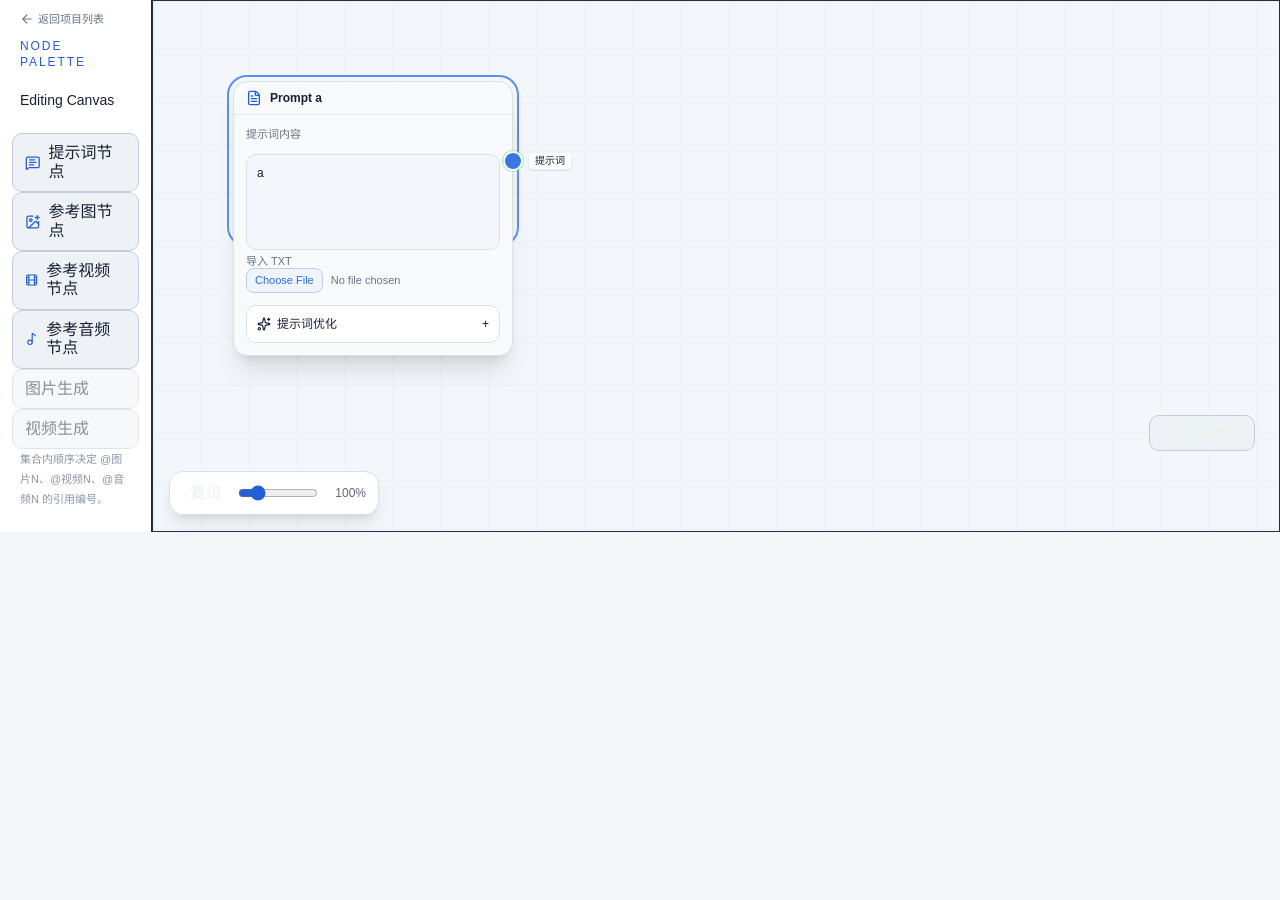
Test: project-scoped node selection and deletion › closes the context menu on Tab and on an outside pointer without trapping focus
Step 1. Press ContextMenu in the option with test id "draggable-node-a", box [233, 81, 513, 241]
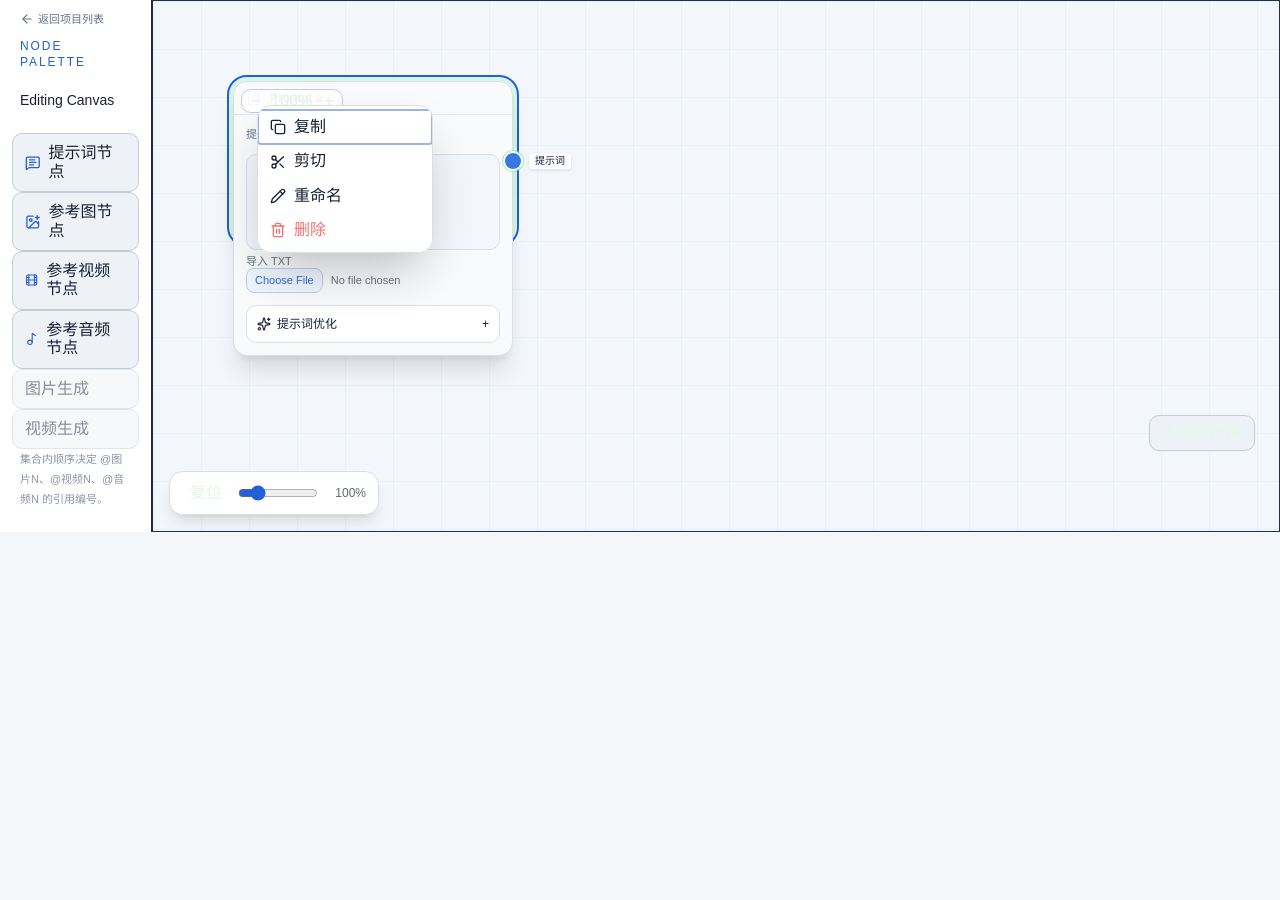
Step 2. Press Tab in the menu item "删除", box [258, 213, 432, 248]
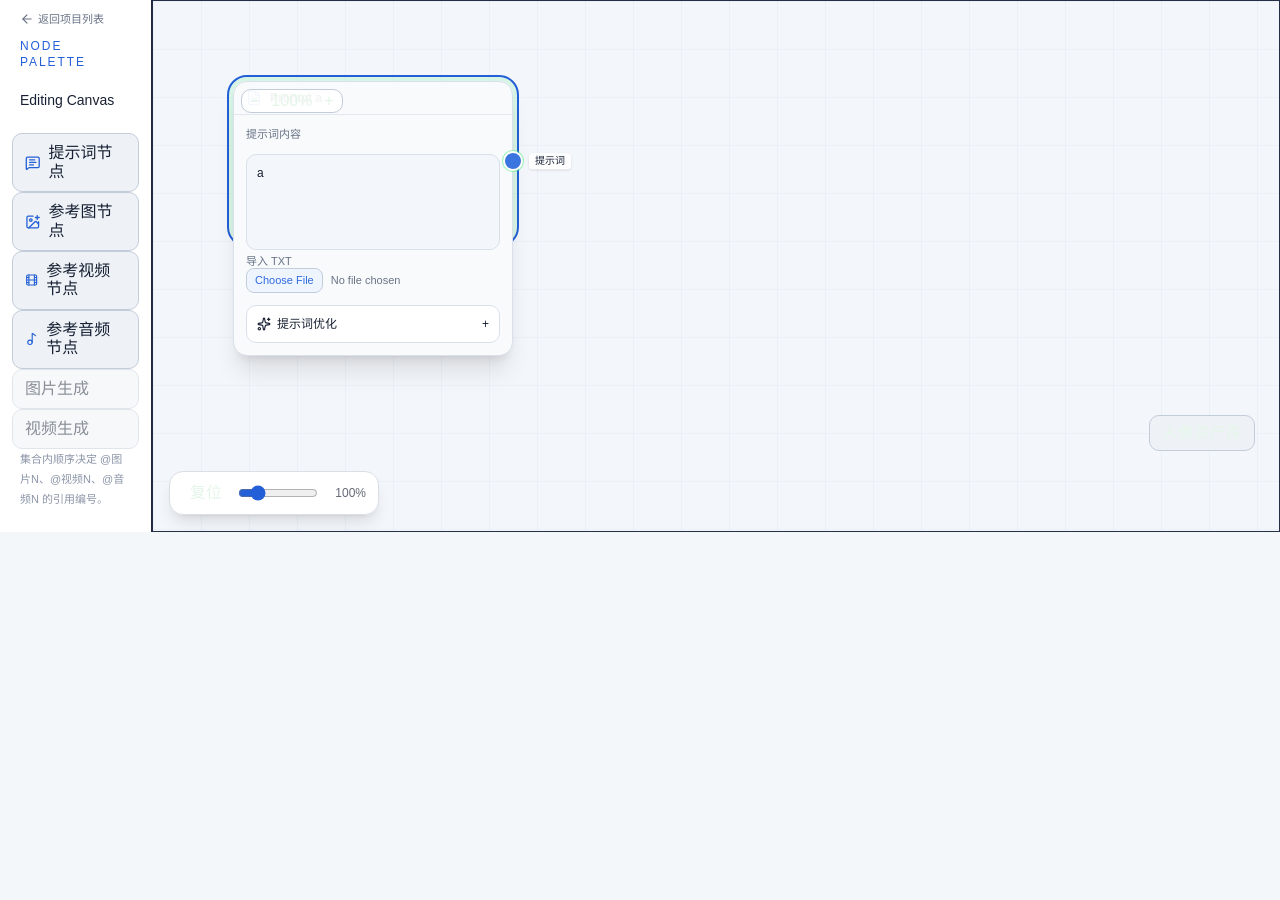
Expected: the menu is gone
Step 3. Press ContextMenu in the option with test id "draggable-node-a", box [233, 81, 513, 241]
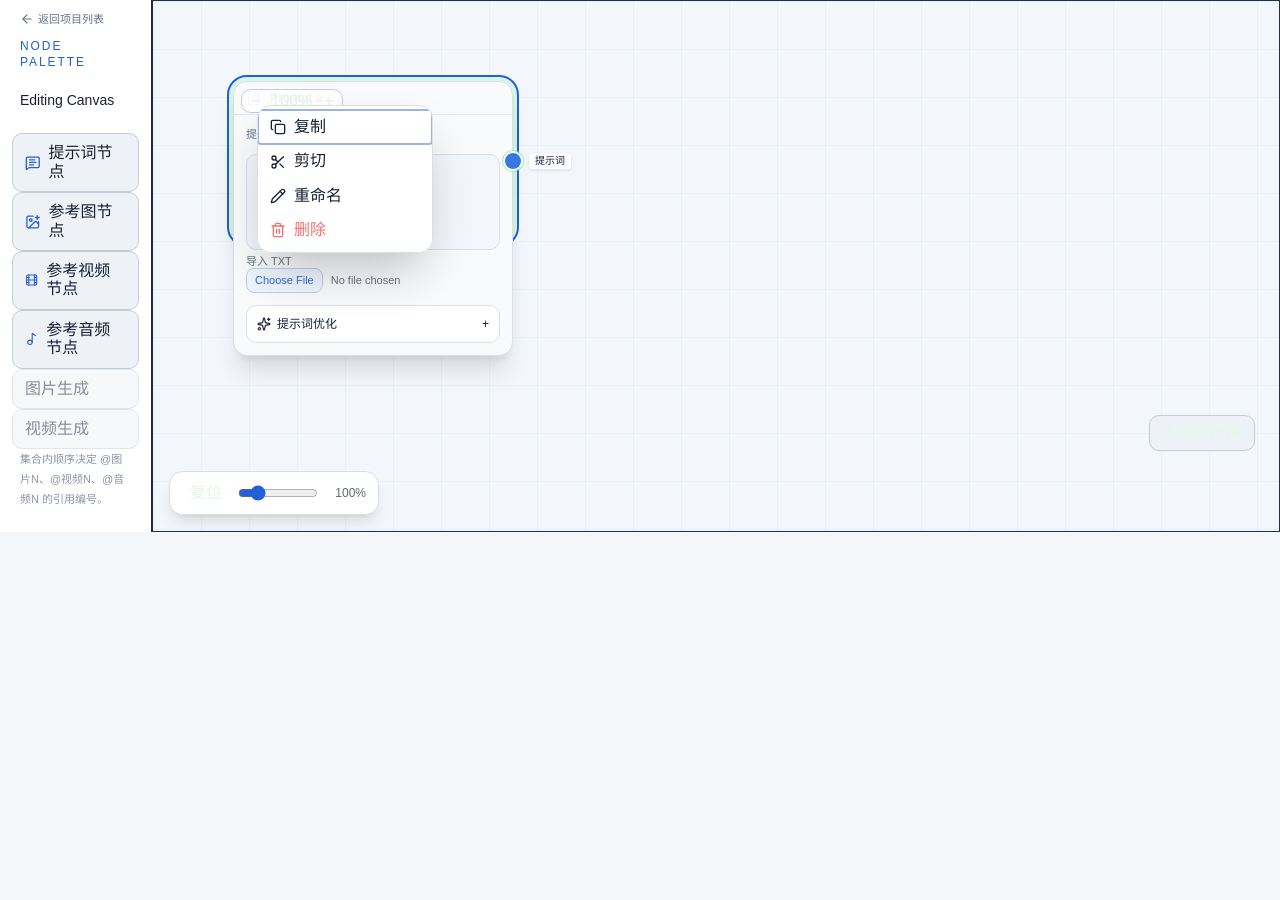
Expected: the menu is shown, [257, 105, 433, 253]
Step 4. Press the mouse on the element that starts with "返回项目列表" → (640, 450), box [0, 0, 1279, 899]
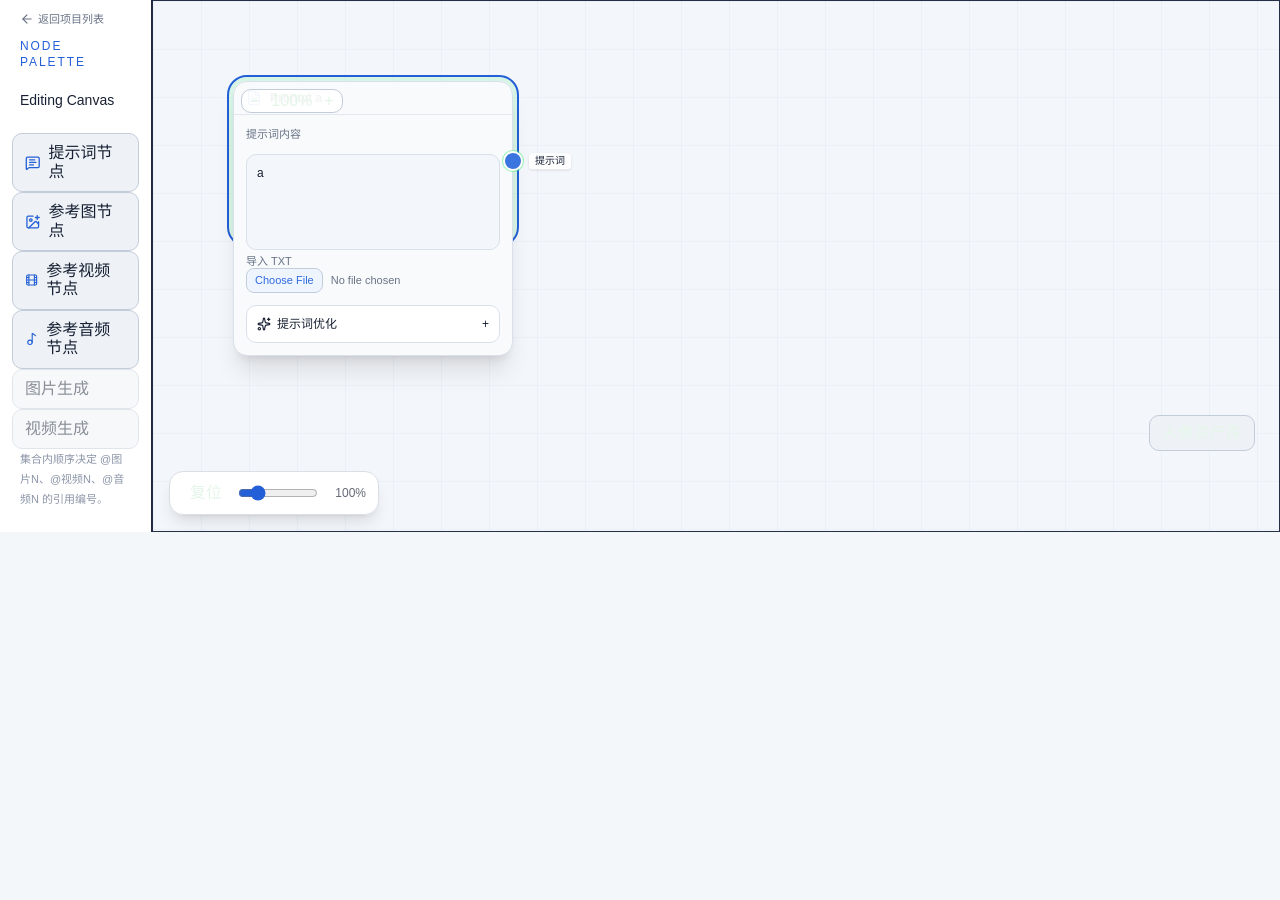
Expected: the menu is gone
